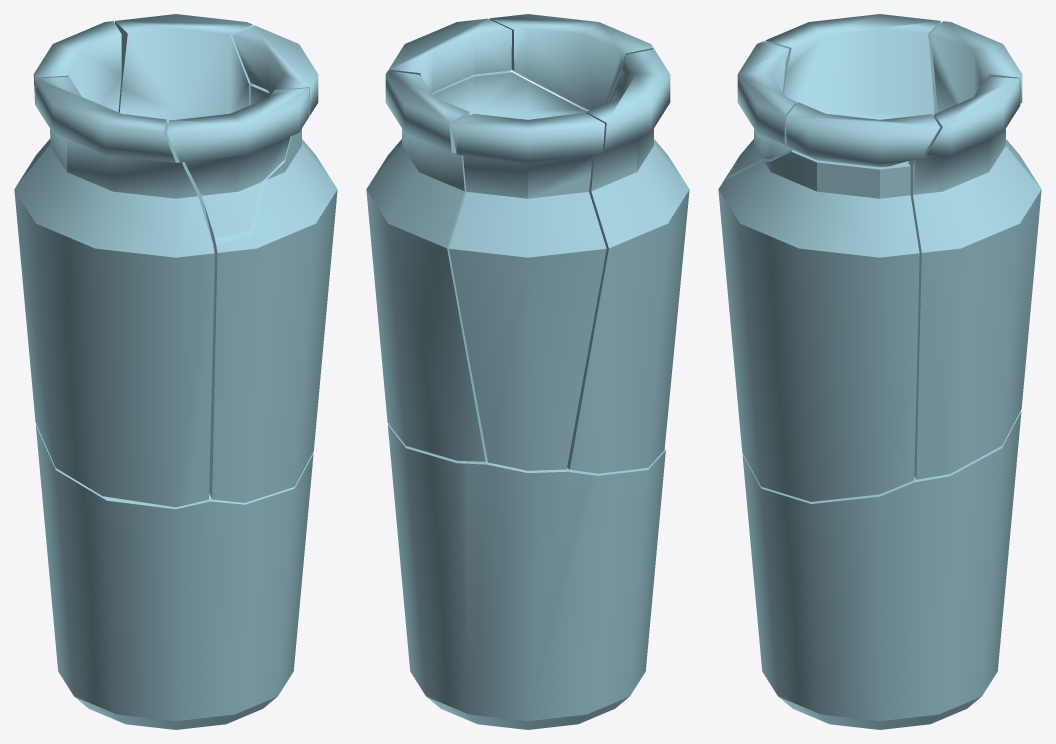
The model's file is BrokenVase.fbx.
3 renders of one model, left to right at view 1: azimuth 30°, elevation 25°; view 2: azimuth 150°, elevation 25°; view 3: azimuth 270°, elevation 25°, orthographic.
Visible parts, largest first — view 1: lo_Prop_Vase_A_LOD0_cell.006, lo_Prop_Vase_A_LOD0_cell.001, lo_Prop_Vase_A_LOD0_cell, lo_Prop_Vase_A_LOD0_cell.002, lo_Prop_Vase_A_LOD0_cell.004, lo_Prop_Vase_A_LOD0_cell.003, lo_Prop_Vase_A_LOD0_cell.005; view 2: lo_Prop_Vase_A_LOD0_cell.001, lo_Prop_Vase_A_LOD0_cell.003, lo_Prop_Vase_A_LOD0_cell.006, lo_Prop_Vase_A_LOD0_cell.002, lo_Prop_Vase_A_LOD0_cell.004, lo_Prop_Vase_A_LOD0_cell.005, lo_Prop_Vase_A_LOD0_cell; view 3: lo_Prop_Vase_A_LOD0_cell, lo_Prop_Vase_A_LOD0_cell.001, lo_Prop_Vase_A_LOD0_cell.002, lo_Prop_Vase_A_LOD0_cell.006, lo_Prop_Vase_A_LOD0_cell.005, lo_Prop_Vase_A_LOD0_cell.003, lo_Prop_Vase_A_LOD0_cell.004.
Boxes of the visible parts, x1,y1,x2,y2 form: lo_Prop_Vase_A_LOD0_cell.006: [14, 76, 214, 507]; lo_Prop_Vase_A_LOD0_cell.001: [35, 424, 313, 729]; lo_Prop_Vase_A_LOD0_cell: [203, 84, 337, 502]; lo_Prop_Vase_A_LOD0_cell.002: [115, 14, 253, 123]; lo_Prop_Vase_A_LOD0_cell.004: [167, 88, 309, 238]; lo_Prop_Vase_A_LOD0_cell.003: [15, 21, 121, 187]; lo_Prop_Vase_A_LOD0_cell.005: [232, 25, 318, 115]; lo_Prop_Vase_A_LOD0_cell.001: [387, 424, 665, 729]; lo_Prop_Vase_A_LOD0_cell.003: [449, 112, 606, 470]; lo_Prop_Vase_A_LOD0_cell.006: [567, 49, 689, 473]; lo_Prop_Vase_A_LOD0_cell.002: [366, 70, 487, 461]; lo_Prop_Vase_A_LOD0_cell.004: [489, 14, 653, 111]; lo_Prop_Vase_A_LOD0_cell.005: [388, 18, 511, 93]; lo_Prop_Vase_A_LOD0_cell: [377, 70, 586, 171]; lo_Prop_Vase_A_LOD0_cell: [718, 149, 919, 501]; lo_Prop_Vase_A_LOD0_cell.001: [742, 411, 1021, 729]; lo_Prop_Vase_A_LOD0_cell.002: [907, 76, 1041, 479]; lo_Prop_Vase_A_LOD0_cell.006: [730, 14, 940, 170]; lo_Prop_Vase_A_LOD0_cell.005: [786, 102, 940, 167]; lo_Prop_Vase_A_LOD0_cell.003: [930, 21, 1040, 187]; lo_Prop_Vase_A_LOD0_cell.004: [730, 41, 796, 174].
Bounding box in the file's own units: 25.01 × 52.35 × 25.01.
